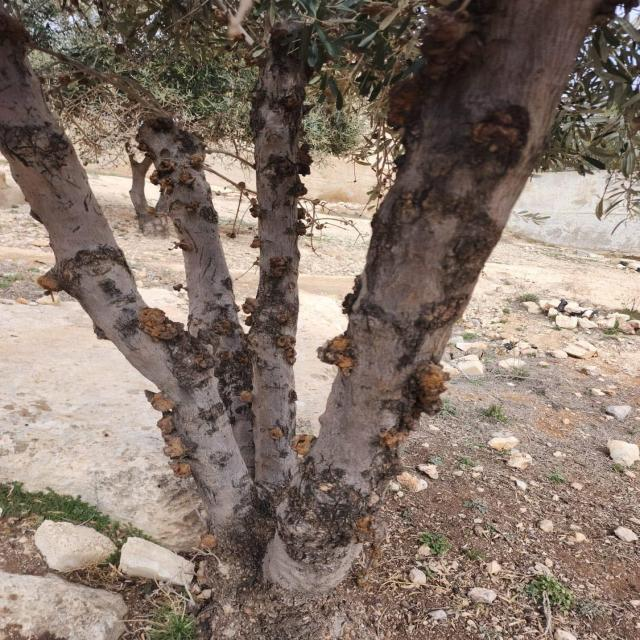Tuberculosis: (386, 0, 484, 135), (380, 360, 449, 449), (145, 389, 191, 477), (317, 334, 355, 376), (138, 307, 184, 341), (355, 515, 389, 559), (150, 158, 175, 199), (38, 268, 67, 295), (144, 116, 181, 134), (266, 256, 293, 280), (276, 335, 296, 365), (292, 434, 316, 457), (210, 319, 235, 338), (286, 177, 307, 198), (199, 533, 218, 550), (179, 169, 196, 188), (189, 153, 205, 172), (242, 297, 258, 314), (275, 312, 292, 326), (269, 427, 284, 442), (240, 390, 253, 404), (250, 235, 259, 248)
